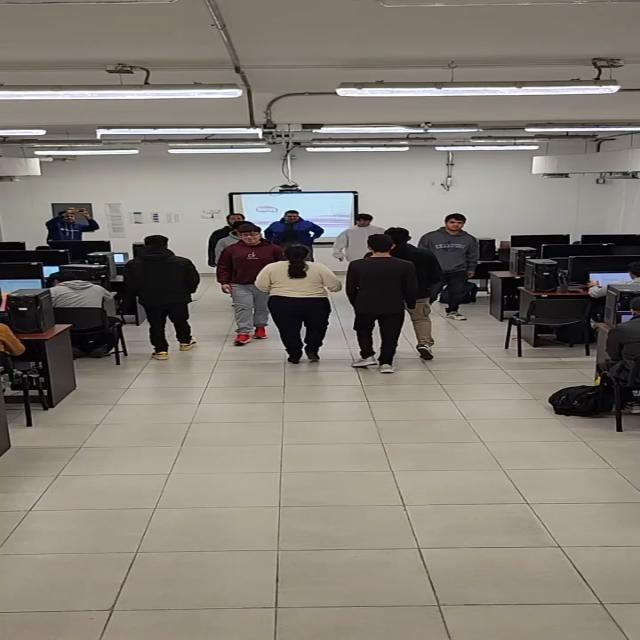Persona: (130, 231, 207, 357), (274, 247, 334, 368), (354, 233, 405, 372), (396, 225, 445, 355), (222, 225, 269, 344), (432, 209, 481, 312), (272, 208, 328, 246), (337, 211, 377, 257), (43, 205, 95, 238), (216, 210, 254, 227)
